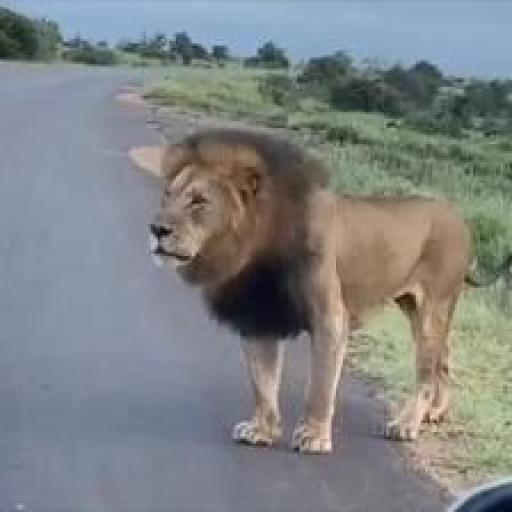lion: (132, 112, 332, 334)
